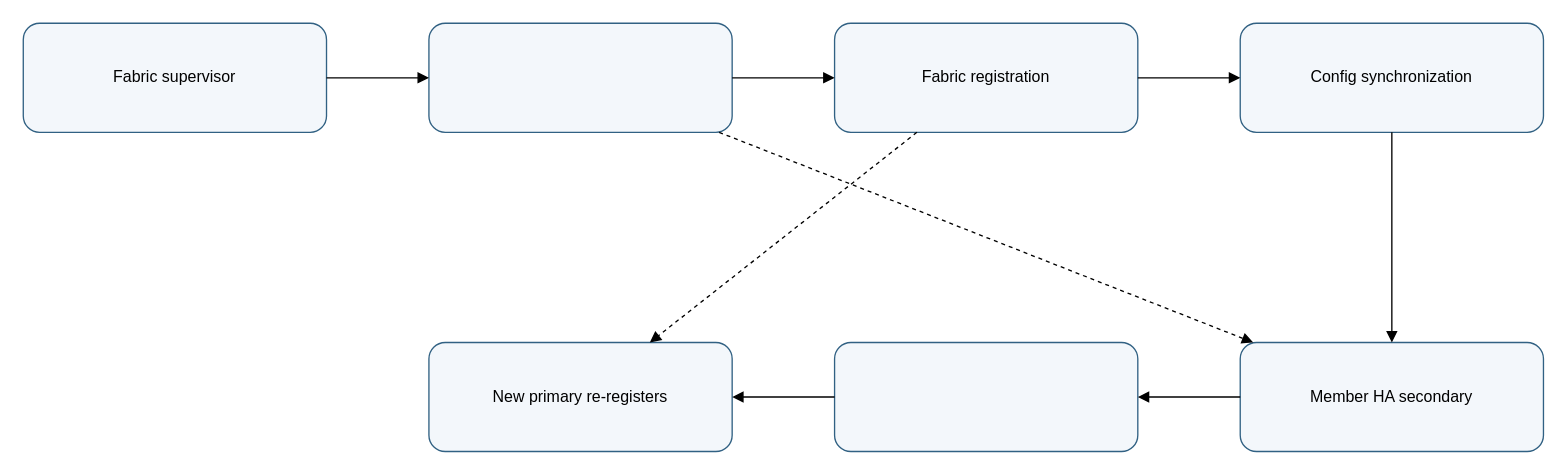
This 1567x475 diagram has some shape labels left out. The centre of each missing label's shape, as x and y in pixels:
HA role failover: the point at 985,396
Member HA primary: the point at 580,77
